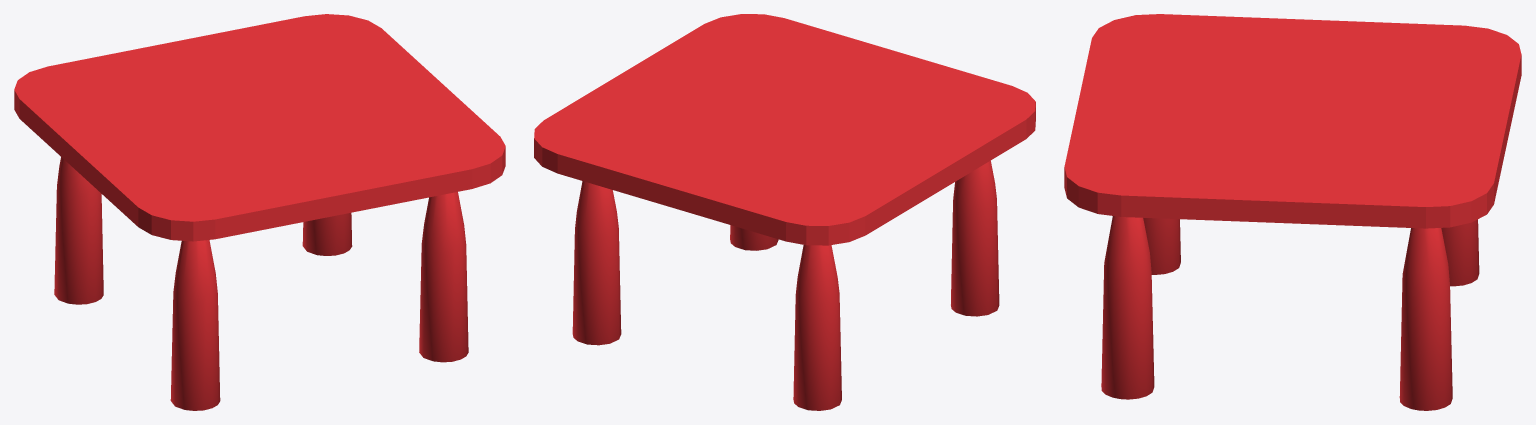
Rendered from Table.fbx.
3 views of the same model, side by side, from view 1: azimuth 30°, elevation 25°; view 2: azimuth 150°, elevation 25°; view 3: azimuth 270°, elevation 25° (orthographic). The views are drawn at different scales.
Visible parts, largest first — view 1: Table; view 2: Table; view 3: Table.
Part boxes in pixels (bbox=[...]): Table: bbox=[14, 14, 505, 410]; Table: bbox=[534, 14, 1035, 410]; Table: bbox=[1064, 14, 1521, 410].
Bounding box in the file's own units: 314 × 167 × 314.
